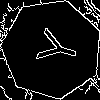Y: (26, 24, 81, 70)
